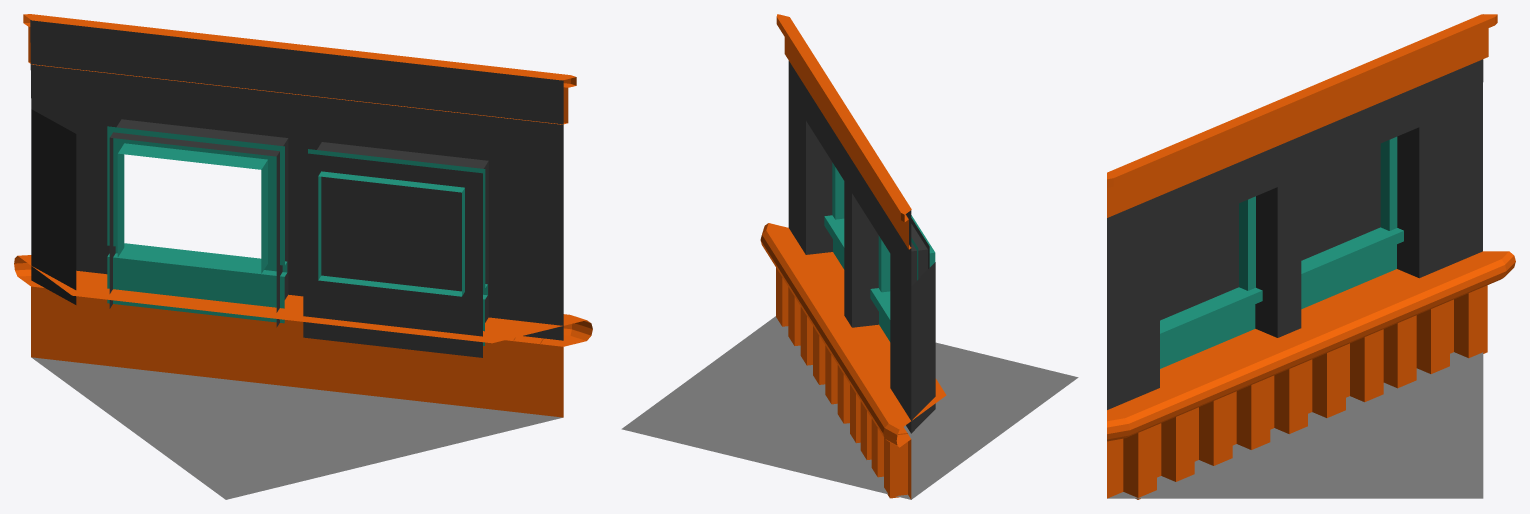
File: SM_B_Corner_Build_02.fbx
3 views of the same model, side by side, from view 1: azimuth 30°, elevation 25°; view 2: azimuth 150°, elevation 25°; view 3: azimuth 270°, elevation 25° (orthographic). The views are drawn at different scales.
Visible parts, largest first — view 1: SM_B_Corner_Build_02, Plane019, Box092; view 2: SM_B_Corner_Build_02, Plane019, Box092; view 3: SM_B_Corner_Build_02, Plane019, Box092.
Part boxes in pixels (<box>): SM_B_Corner_Build_02: <box>14,20,592,417</box>; Plane019: <box>31,357,562,499</box>; Box092: <box>23,14,576,124</box>; SM_B_Corner_Build_02: <box>760,61,946,499</box>; Plane019: <box>621,316,1078,499</box>; Box092: <box>776,14,911,249</box>; SM_B_Corner_Build_02: <box>1107,59,1515,499</box>; Plane019: <box>1108,352,1483,498</box>; Box092: <box>1107,14,1497,217</box>.
Bounding box in the file's own units: 583 × 514 × 582.
